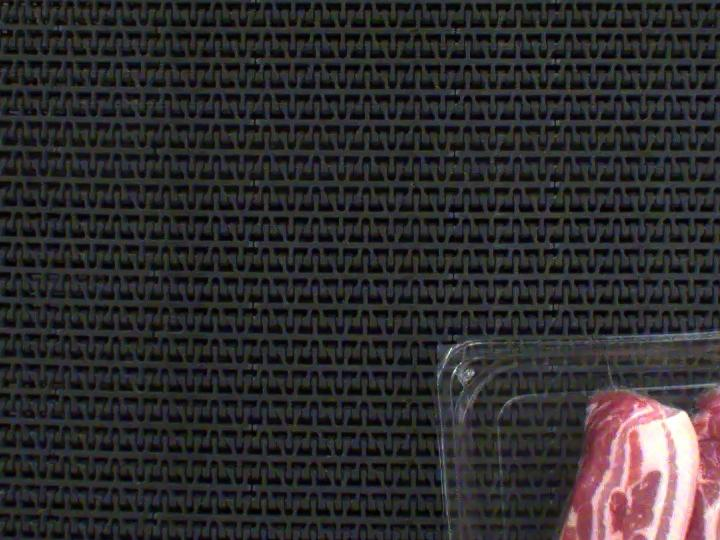packaging-error: (592, 359, 649, 405), (710, 345, 720, 384)
